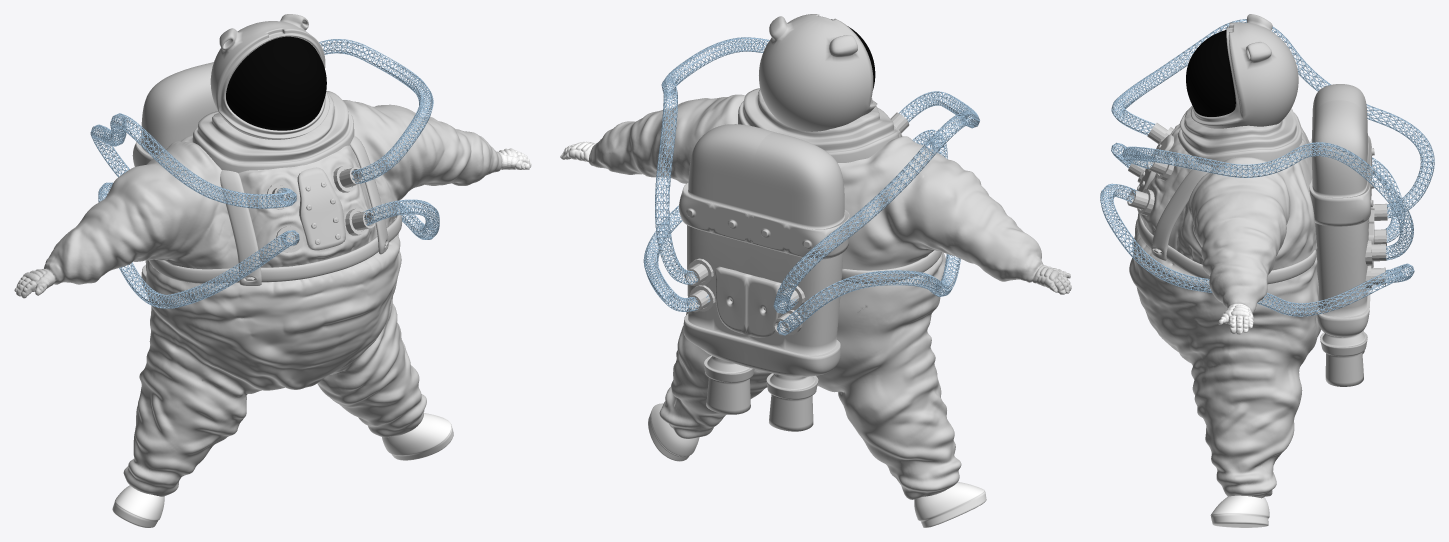
Rendered from spaceman_model.glb.
3 renders of one model, left to right at view 1: azimuth 30°, elevation 25°; view 2: azimuth 150°, elevation 25°; view 3: azimuth 270°, elevation 25°, orthographic. The views are drawn at different scales.
Visible parts, largest first — view 1: Sphere.009, Cylinder.002, NurbsPath.004, Sphere.008, Plane.005, Plane.006; view 2: Sphere.009, Plane.005, NurbsPath.004, Sphere.008, Cylinder.002, Plane.006; view 3: Sphere.009, Plane.005, NurbsPath.004, Cylinder.002, Sphere.008, Plane.006, Sphere.007.
Boxes of the visible parts, left/top/right/bottom form: Sphere.009: left=14, top=100, right=502, bottom=496; Cylinder.002: left=148, top=91, right=401, bottom=285; NurbsPath.004: left=90, top=39, right=439, bottom=308; Sphere.008: left=210, top=14, right=329, bottom=139; Plane.005: left=132, top=62, right=217, bottom=291; Plane.006: left=112, top=413, right=453, bottom=527; Sphere.009: left=588, top=94, right=1071, bottom=499; Plane.005: left=679, top=124, right=849, bottom=431; NurbsPath.004: left=643, top=37, right=979, bottom=335; Sphere.008: left=759, top=14, right=877, bottom=131; Cylinder.002: left=684, top=88, right=941, bottom=335; Plane.006: left=648, top=403, right=986, bottom=527; Sphere.009: left=1129, top=112, right=1321, bottom=498; Plane.005: left=1309, top=84, right=1374, bottom=386; NurbsPath.004: left=1100, top=19, right=1434, bottom=316; Cylinder.002: left=1127, top=105, right=1387, bottom=289; Sphere.008: left=1186, top=14, right=1298, bottom=128; Plane.006: left=1210, top=495, right=1269, bottom=527; Sphere.007: left=1218, top=303, right=1253, bottom=334.
Size of the model in its own units: 5.36 by 4.74 by 3.23.
